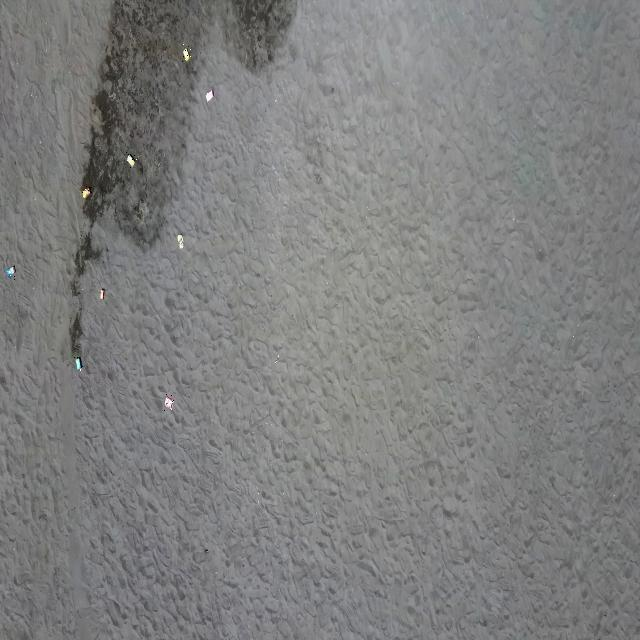Garbage: (163, 393, 173, 409), (4, 264, 15, 278), (125, 155, 135, 166), (176, 233, 183, 247), (204, 88, 212, 100), (183, 48, 190, 60), (81, 188, 89, 198), (75, 356, 81, 369), (99, 287, 104, 299)
